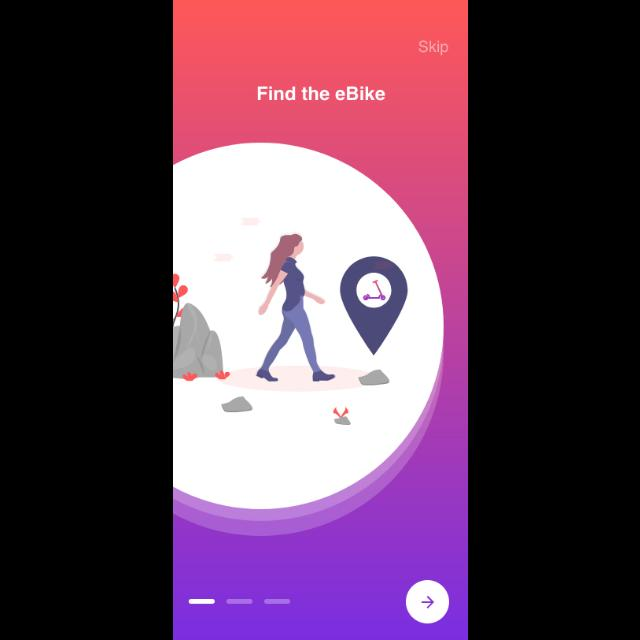icon: (405, 580, 449, 624)
image: (173, 218, 407, 426)
pageindicator: (188, 598, 290, 604)
text: (257, 87, 385, 101), (418, 40, 448, 56)
